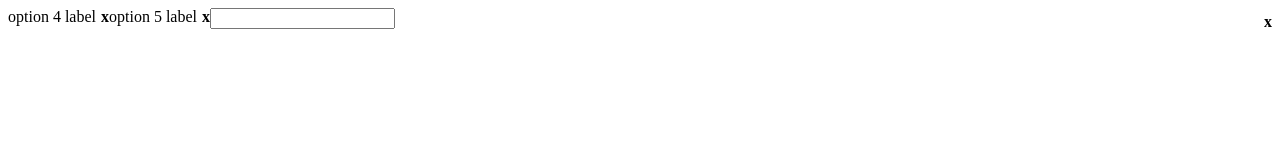
Scenario: MultiSelect › when rendering the options list › should render a combobox with 3 options
Step 1. Type "o" into the dropdown → (302, 18), box [210, 8, 395, 29]
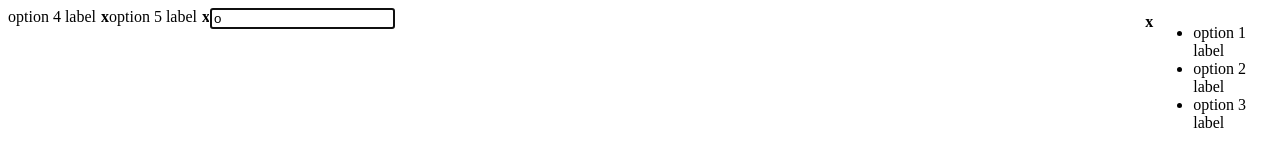
Check: the number of options is 3, box [1193, 24, 1246, 59]; [1193, 60, 1246, 95]; [1193, 96, 1246, 131]
